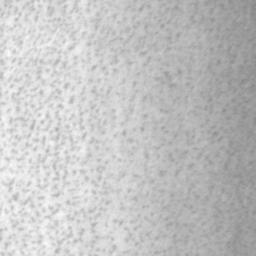Pitted surface: (0, 0, 138, 256), (163, 70, 181, 87)
